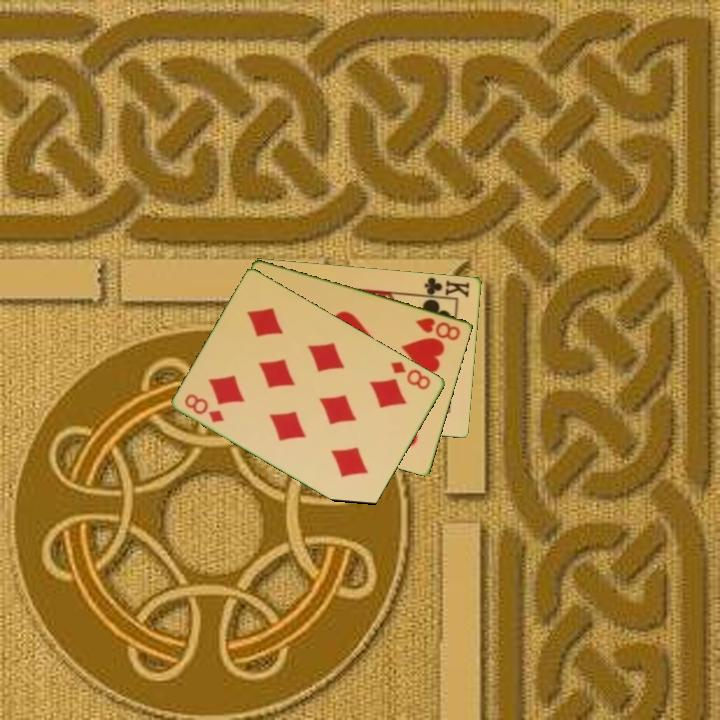8d: (387, 358, 434, 393), (181, 390, 227, 425)
8h: (413, 314, 464, 344)
Kc: (418, 273, 473, 301)
